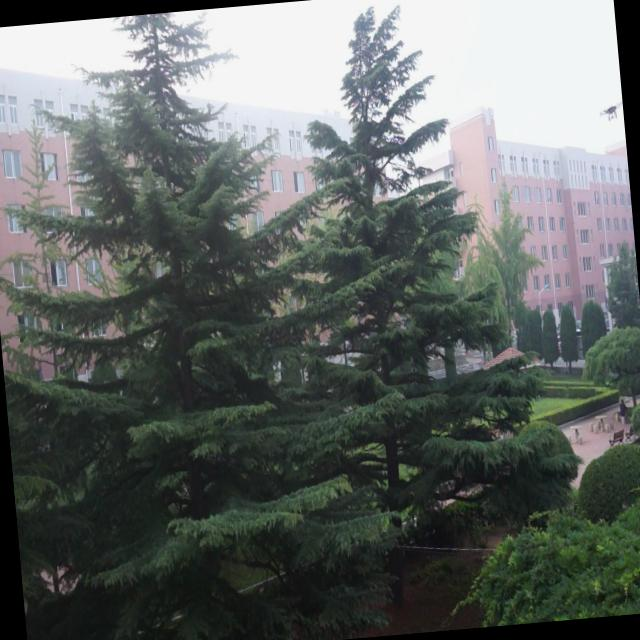drone: (598, 96, 624, 130)
